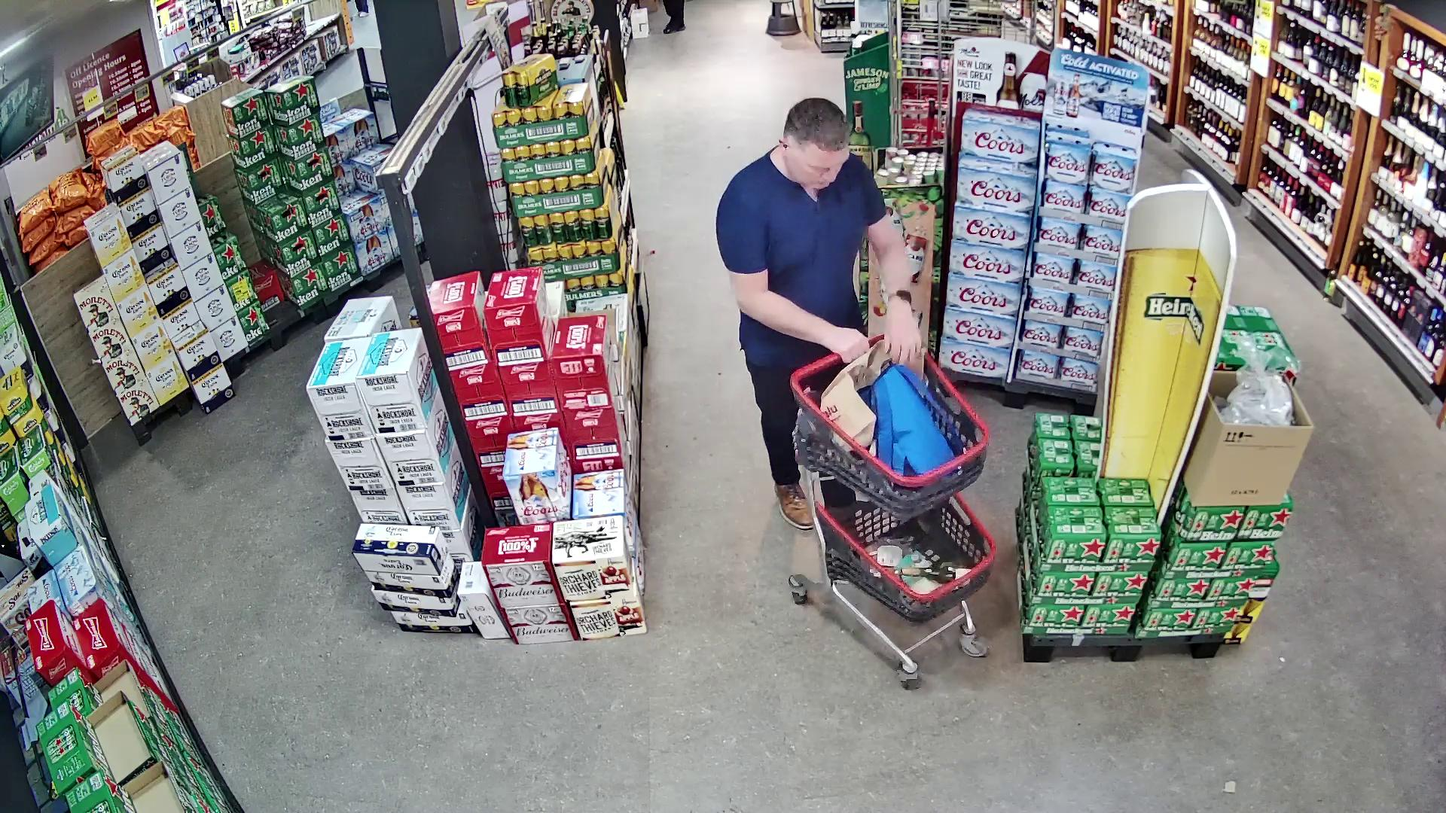filled-trolly: (788, 324, 999, 691)
person: (717, 98, 918, 529)
person-with-filled-basket-trolly: (716, 97, 1001, 693)
